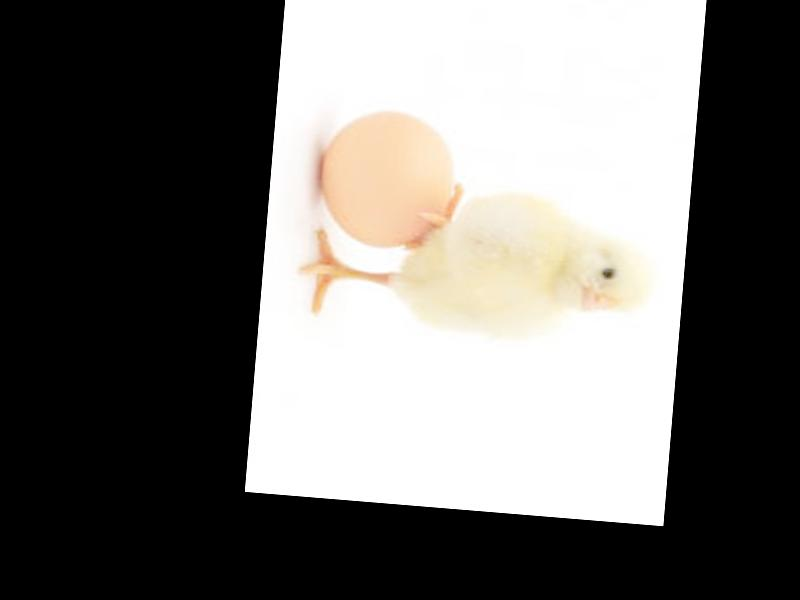Eggs: (316, 104, 465, 256)
